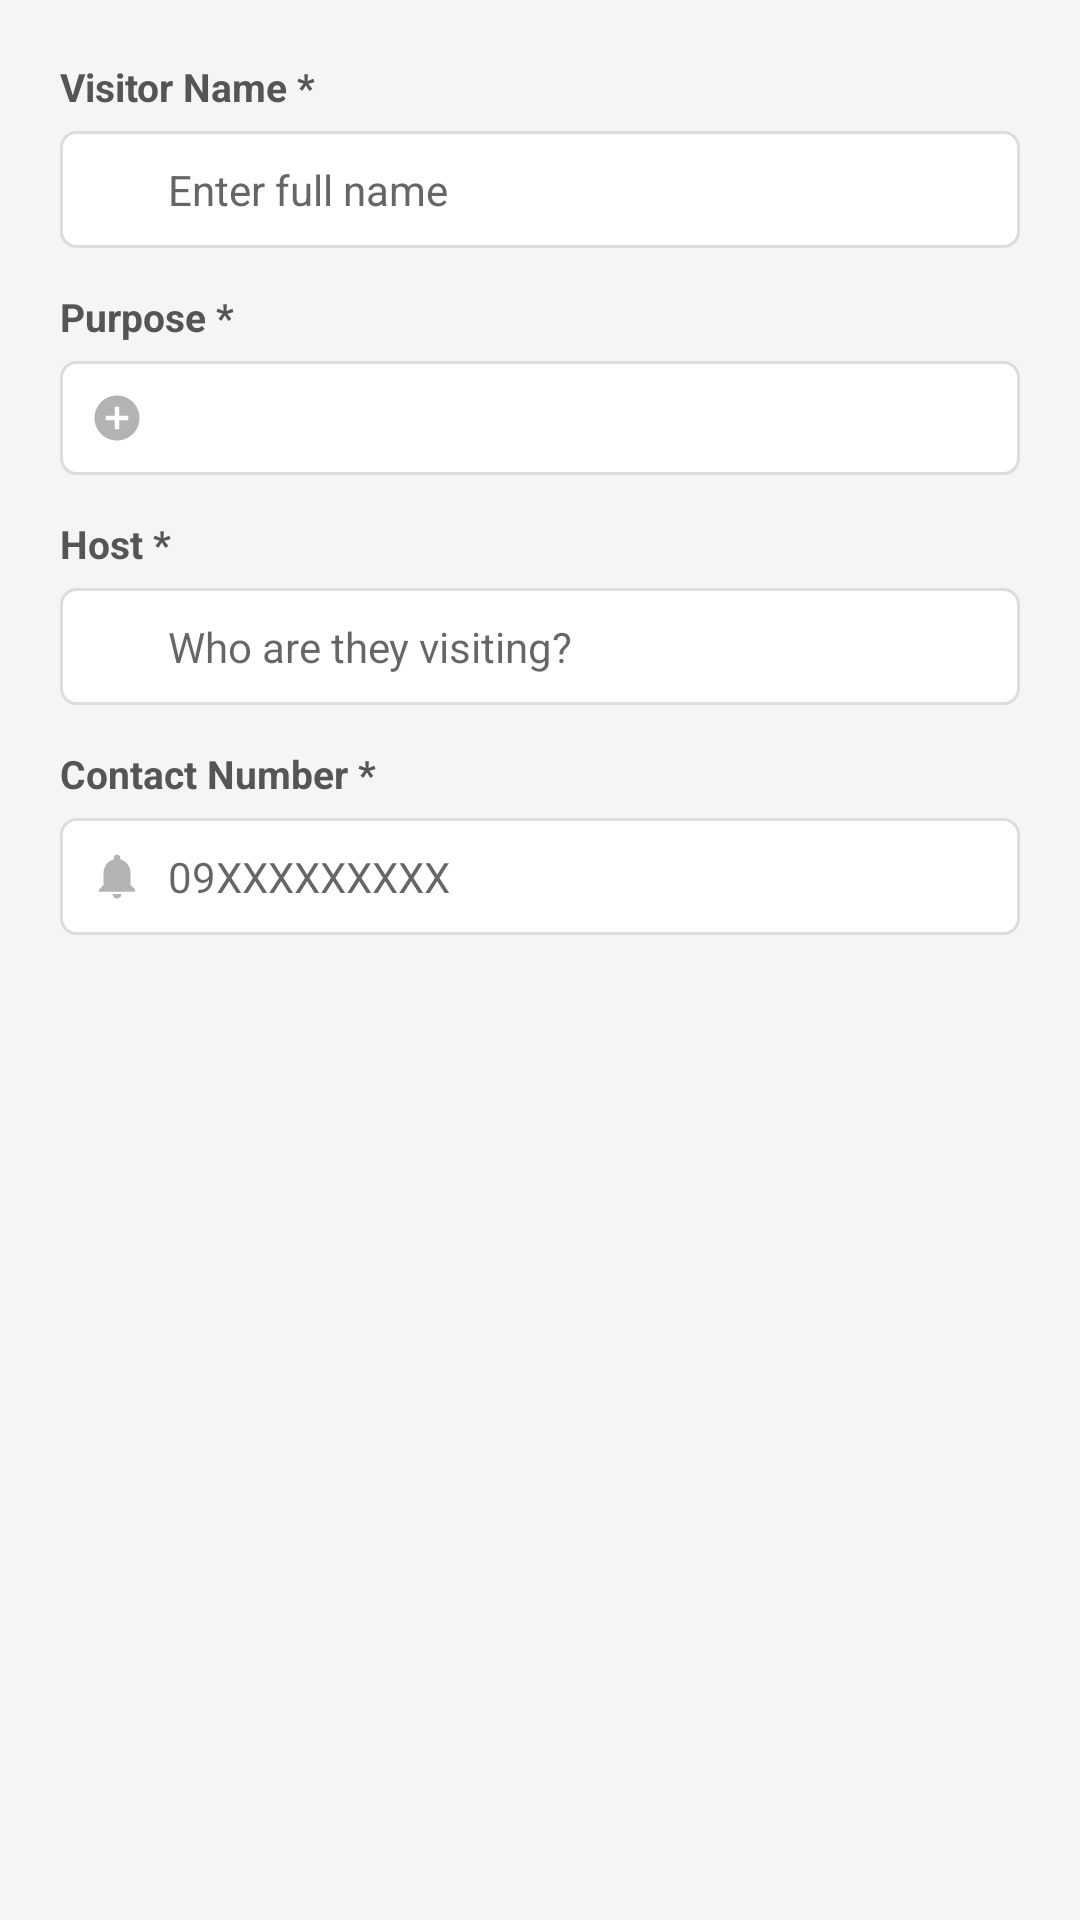

Screen size 1080*1920. Icon name, then its center in pixels as [x,y]:
add: [117,418]
notifications: [117,877]
